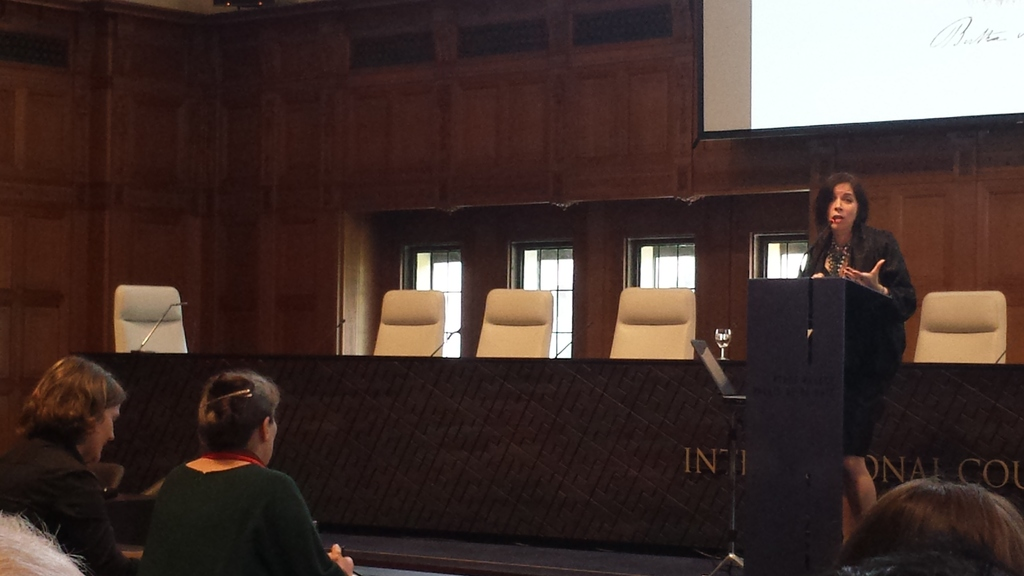Person: (828, 473, 1024, 576), (831, 528, 1016, 576)
